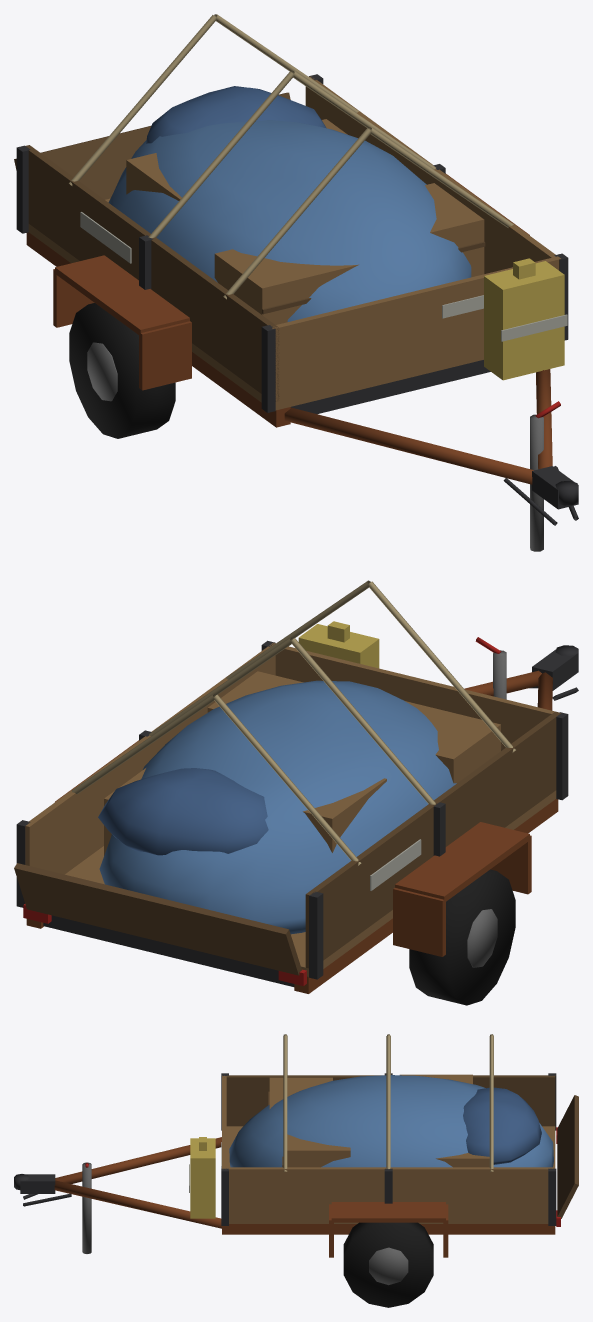
File: camp_trailer.glb
The picture shows the model from 3 angles, top to bottom: view 1: azimuth 30°, elevation 25°; view 2: azimuth 150°, elevation 25°; view 3: azimuth 270°, elevation 25°; orthographic projection. The views are drawn at different scales.
Parts seen in each view (by area): view 1: camp_trailer; view 2: camp_trailer; view 3: camp_trailer.
Boxes of the visible parts, <box> form: camp_trailer: <box>14,14,578,551</box>; camp_trailer: <box>14,580,578,1005</box>; camp_trailer: <box>14,1034,578,1307</box>.
Bounding box in the file's own units: 1.89 × 1.47 × 3.56.
